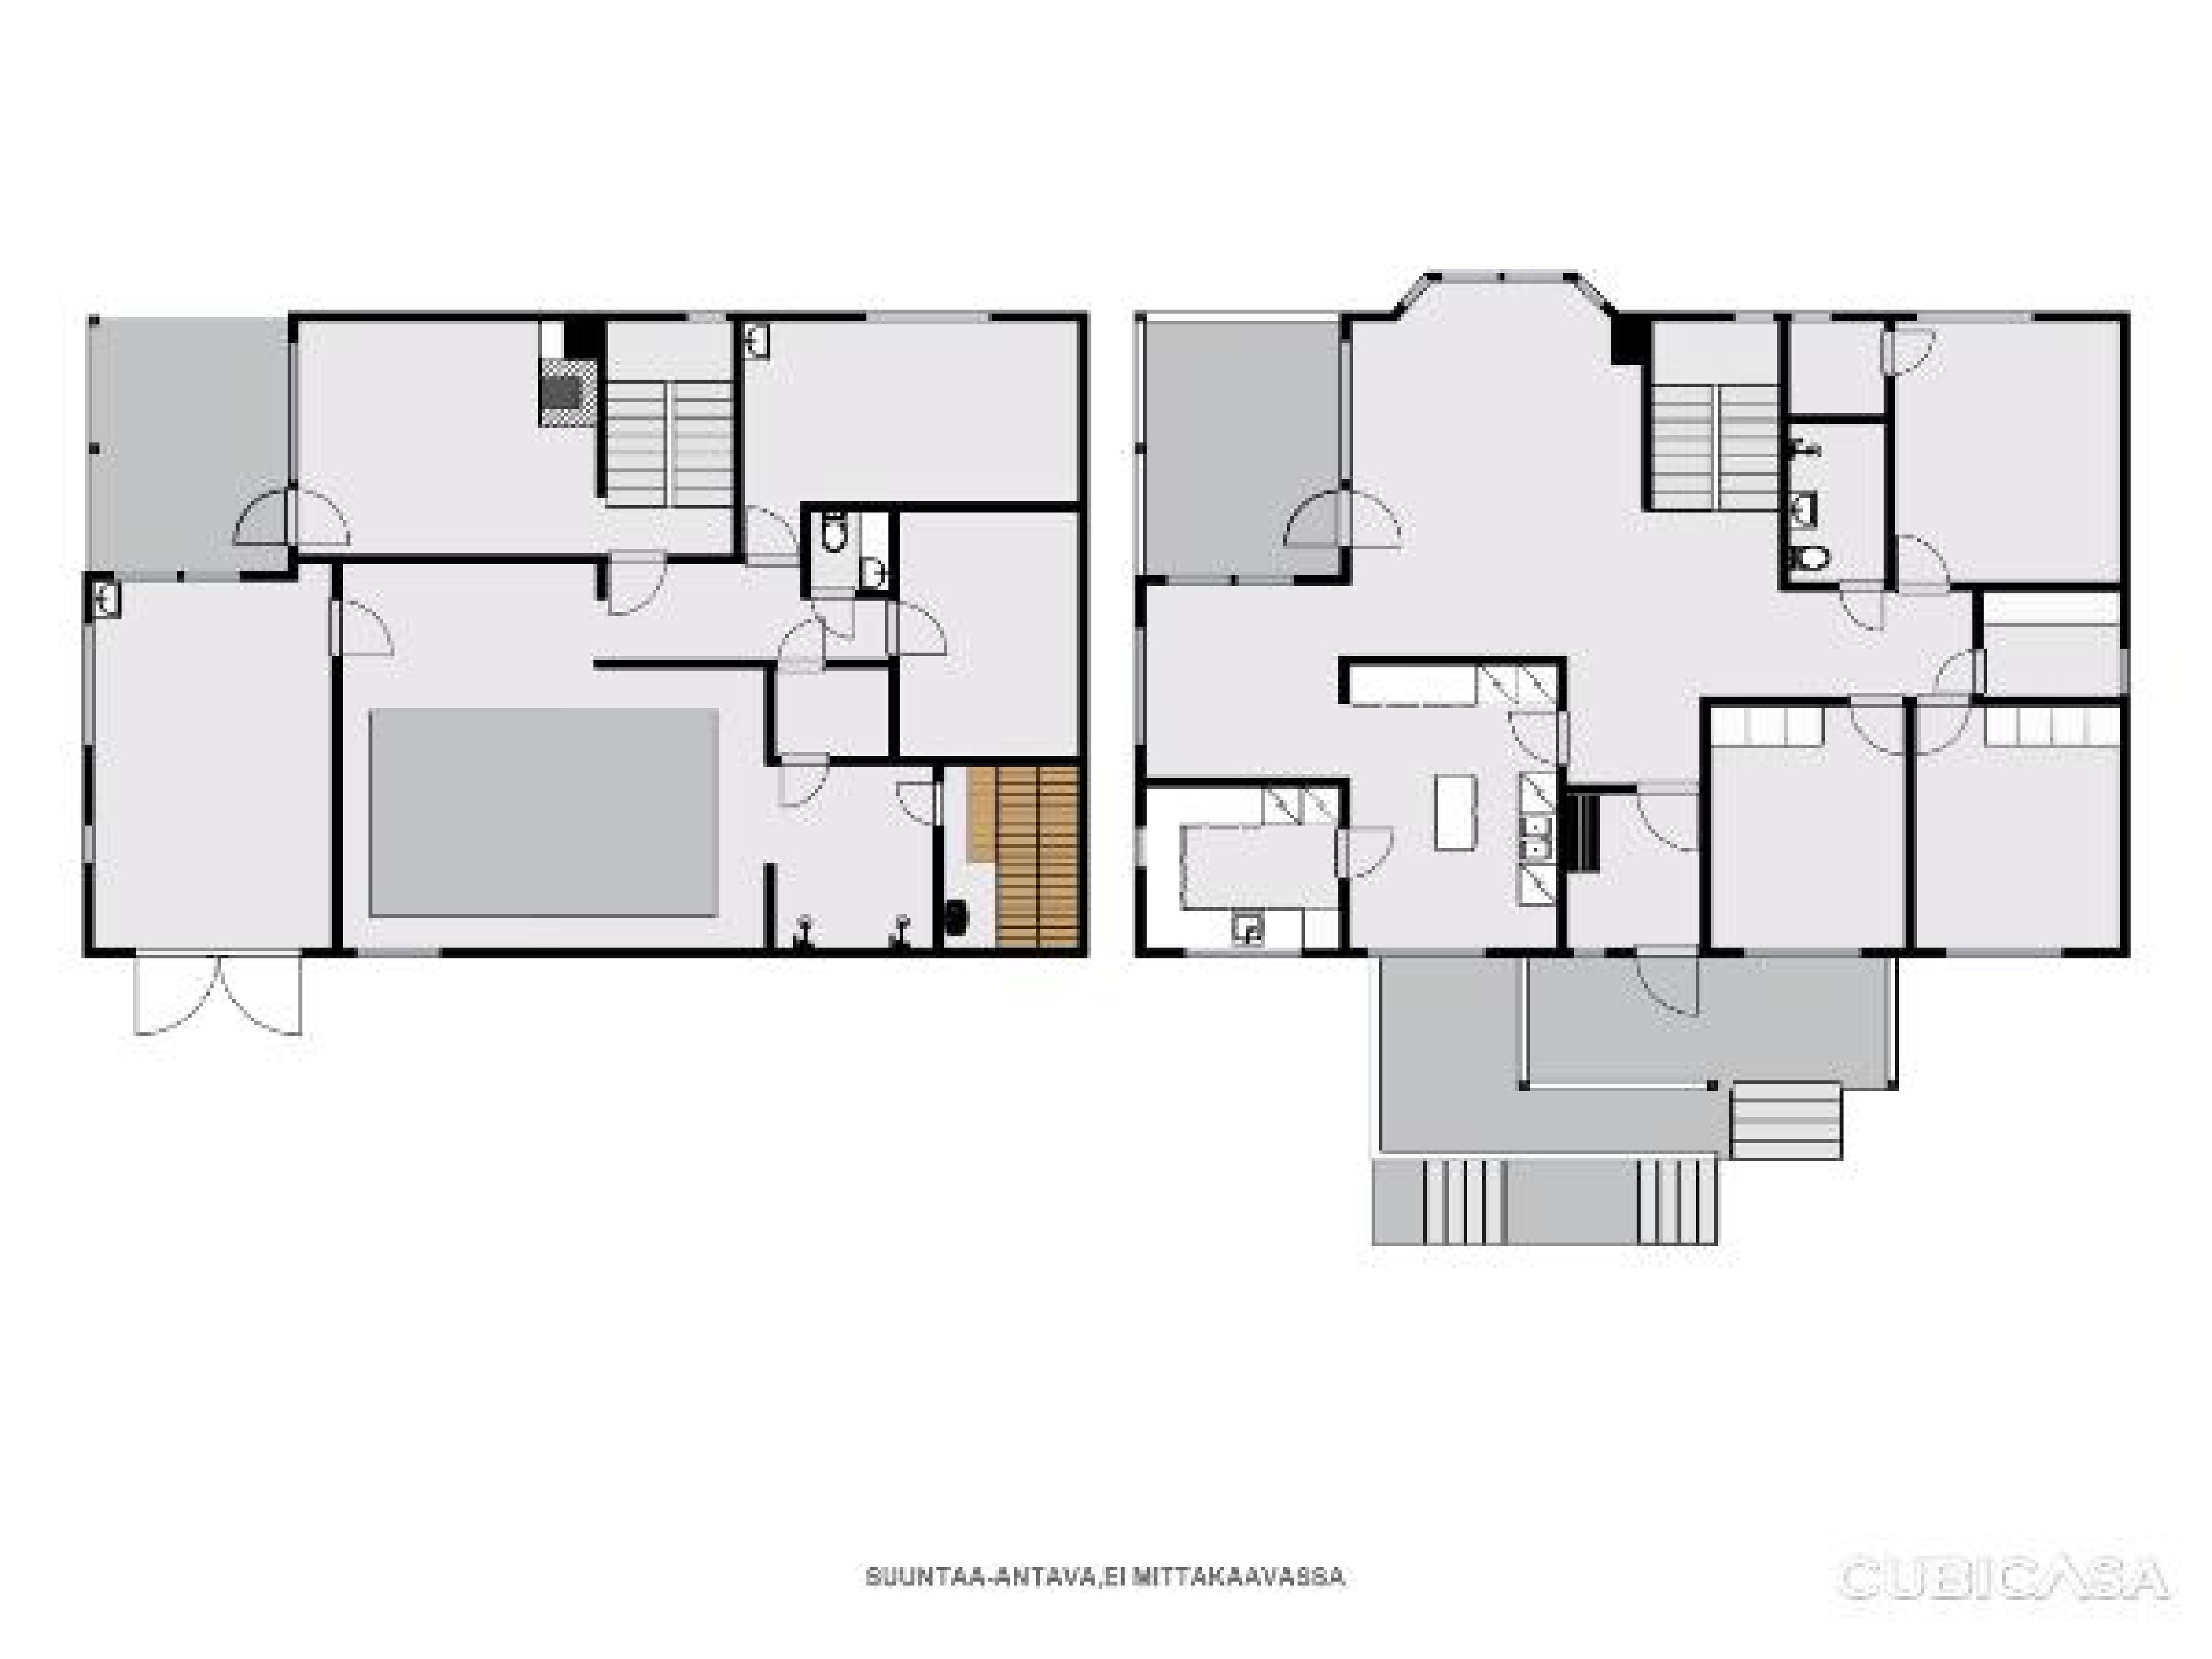door: (127, 943, 310, 1051), (1283, 484, 1401, 551), (1621, 941, 1708, 1018), (223, 493, 349, 545), (1846, 695, 1963, 751), (1923, 634, 2005, 702), (333, 593, 401, 669), (1639, 786, 1713, 845), (885, 598, 955, 659), (776, 751, 835, 823), (776, 619, 833, 688), (1332, 823, 1398, 882), (607, 551, 671, 610), (1506, 708, 1572, 758), (1876, 326, 1935, 382), (741, 504, 797, 561), (1890, 537, 1945, 591), (891, 782, 953, 826), (1830, 579, 1881, 626)
window: (1396, 263, 1602, 312), (859, 305, 1002, 328), (1130, 626, 1154, 751), (108, 570, 242, 589), (80, 627, 101, 746), (1935, 943, 2062, 960), (1914, 308, 2027, 328), (1337, 333, 1349, 497), (1168, 570, 1283, 586), (1367, 946, 1489, 958), (1726, 312, 1825, 326), (364, 943, 441, 960), (1738, 948, 1860, 958), (78, 824, 101, 870), (685, 307, 729, 328), (2120, 653, 2137, 697), (1135, 840, 1152, 878), (1567, 951, 1609, 962)
zone: (1133, 282, 1956, 951), (335, 566, 936, 941), (1379, 955, 1907, 1161), (300, 319, 727, 552), (92, 579, 326, 943), (743, 319, 1077, 556), (1886, 314, 2114, 577), (1705, 702, 1910, 951), (1143, 317, 1332, 573), (1921, 709, 2120, 948), (94, 324, 286, 565), (891, 509, 1075, 749), (1381, 1159, 1720, 1262), (1644, 326, 1773, 509), (945, 767, 1072, 936), (1781, 423, 1888, 580), (1783, 422, 1883, 589), (1977, 589, 2118, 697), (1788, 314, 1890, 411), (1785, 312, 1879, 415), (814, 516, 887, 582)
